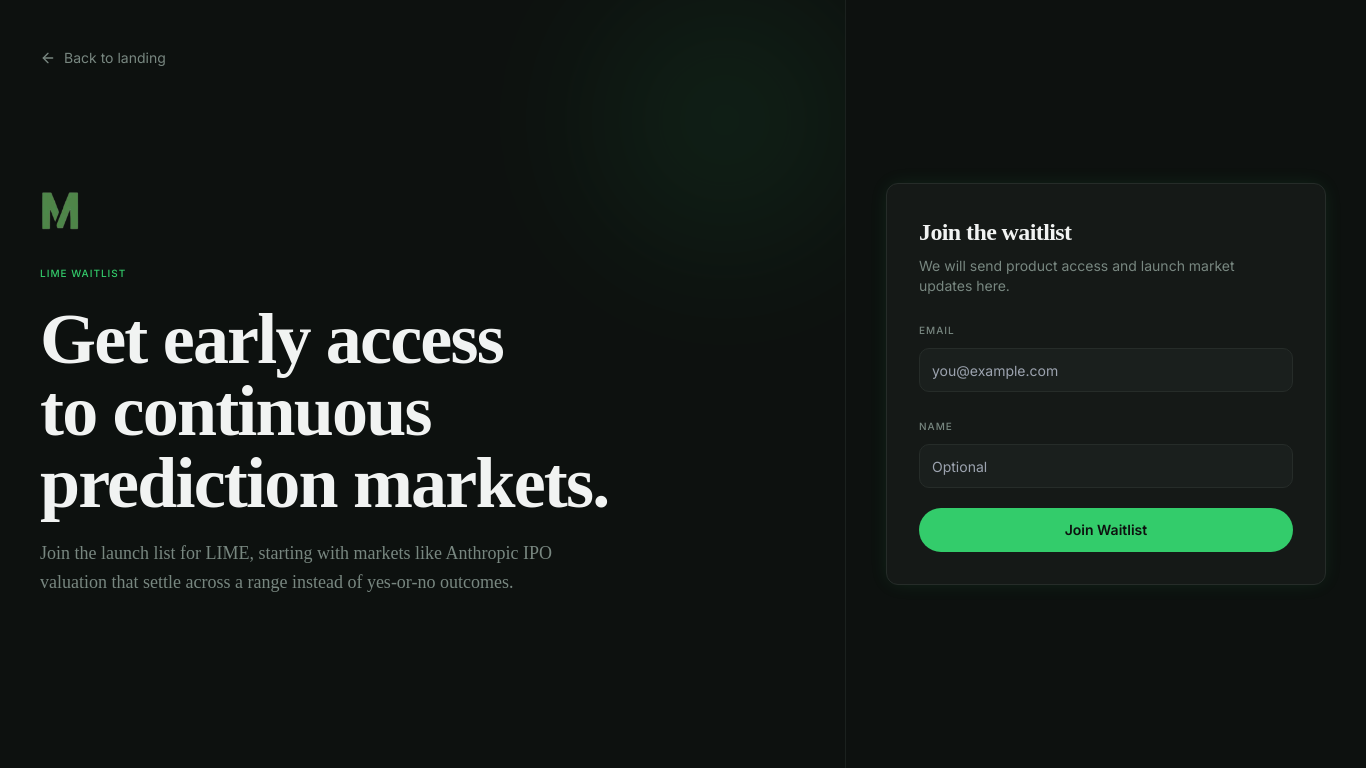
Waitlist › submits a valid email and shows success
Type "founder@example.com" into the field with placeholder "you@example.com" at (1106, 370), box [919,348,1293,392]
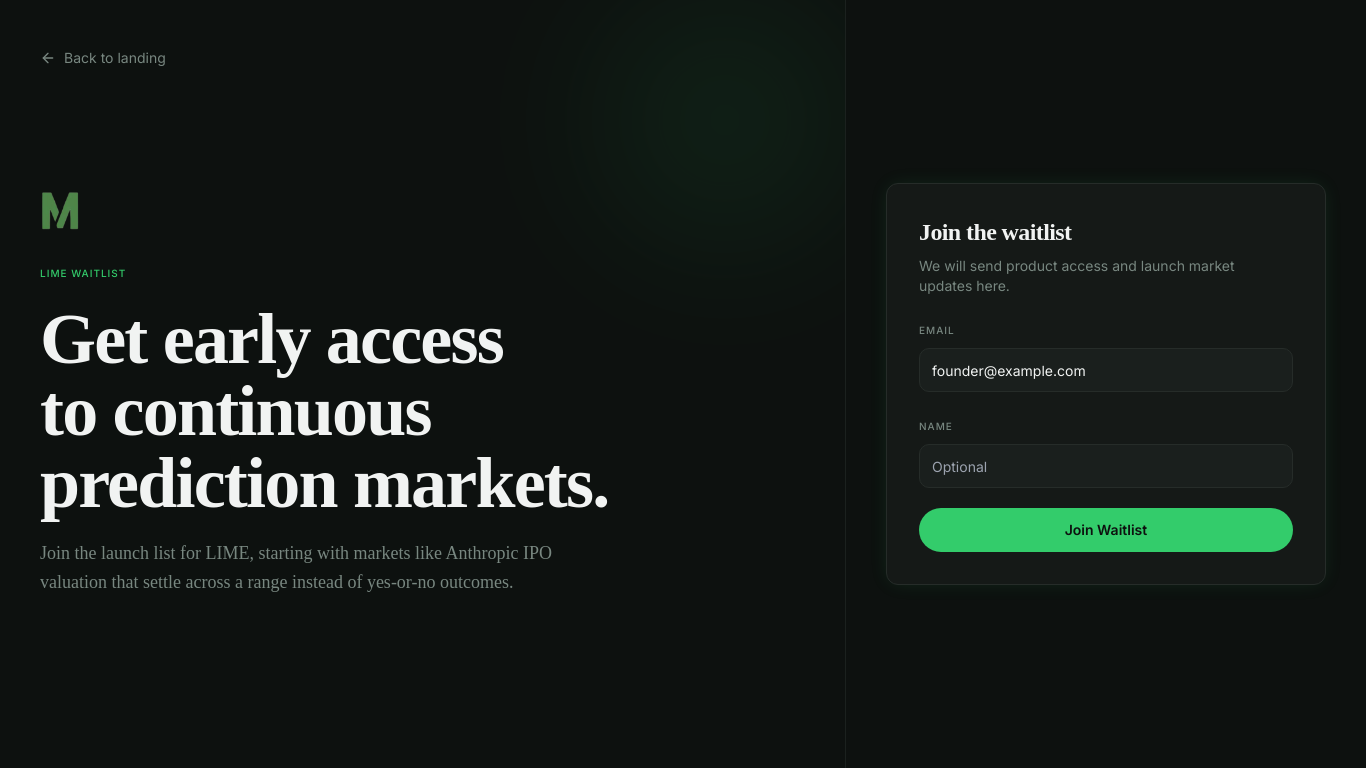
Click the button "Join Waitlist" at (1106, 530), box [919,508,1293,552]
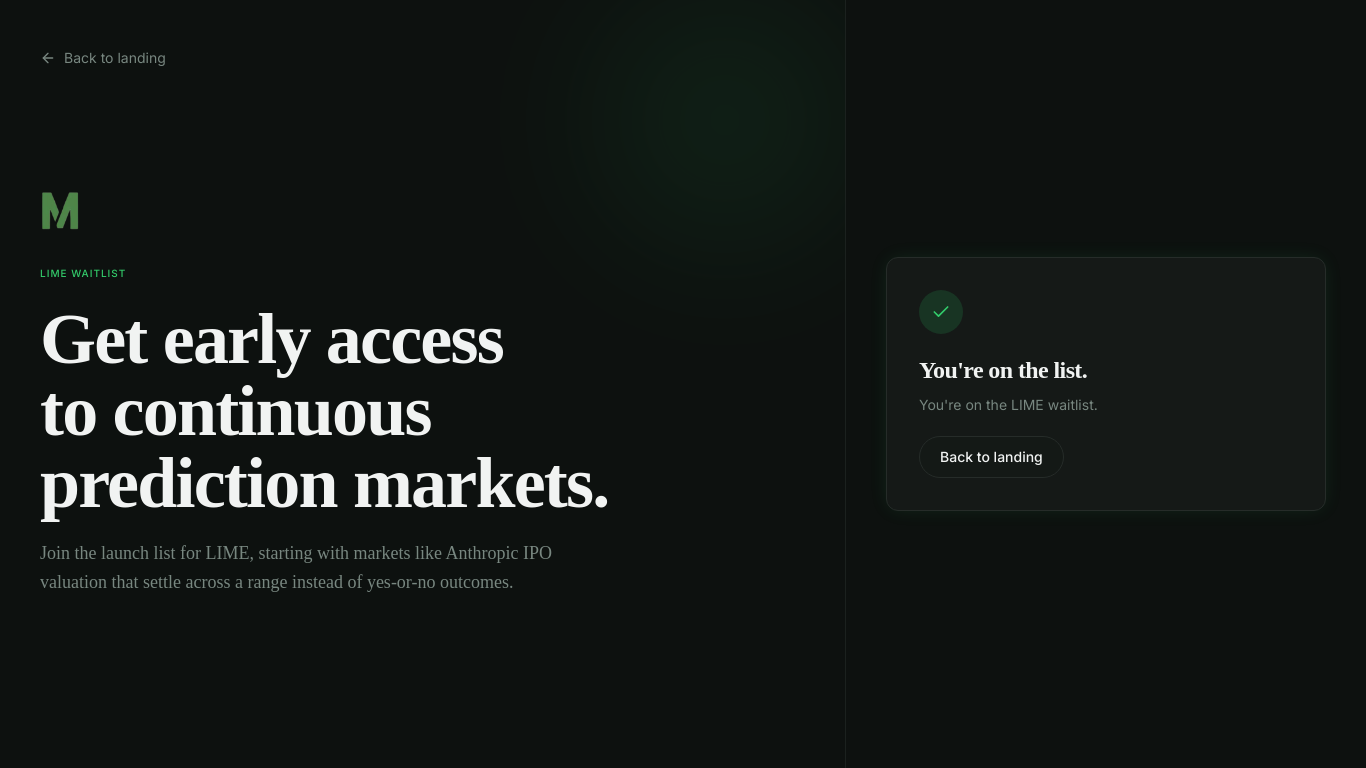
Check: the heading "You're on the list." is shown, box [919,357,1087,383]
